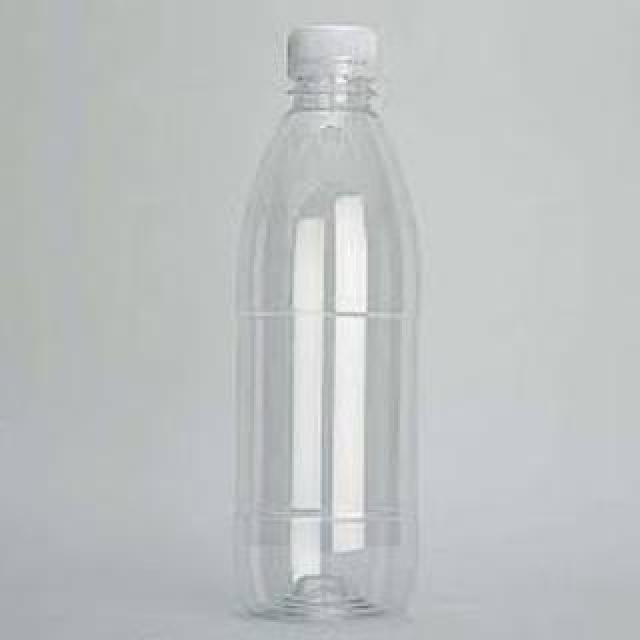Pet_Bottle: (218, 20, 418, 622)
